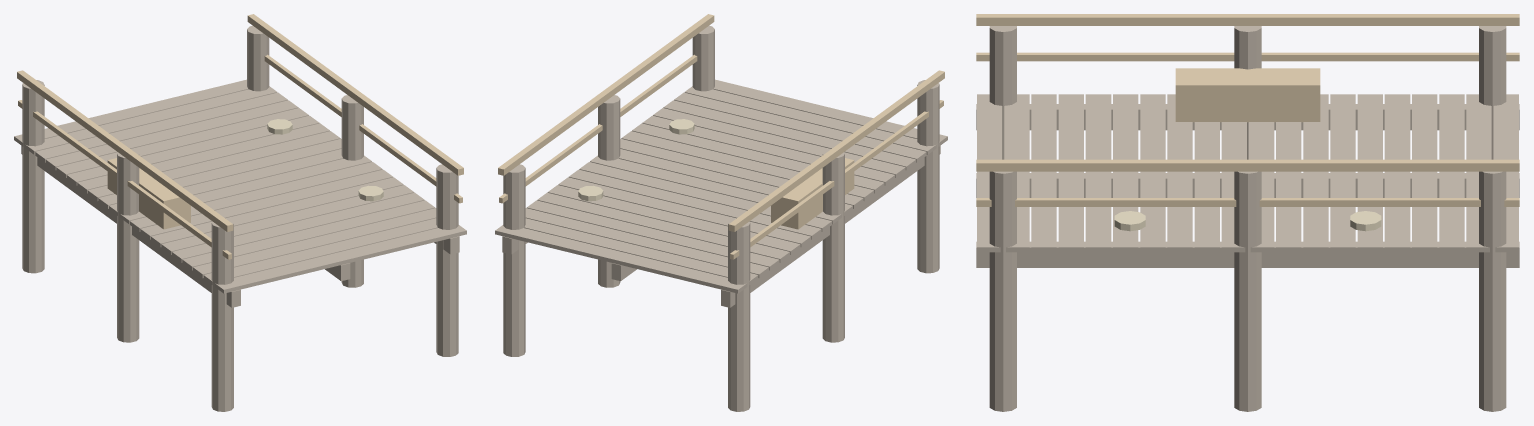
File: pier_section.glb
3 renders of one model, left to right at view 1: azimuth 30°, elevation 25°; view 2: azimuth 150°, elevation 25°; view 3: azimuth 270°, elevation 25°, orthographic. The views are drawn at different scales.
Visible parts, largest first — view 1: body; view 2: body; view 3: body.
Part boxes in pixels (x1,y1,x2,y2): body: (14, 14, 466, 411); body: (495, 14, 947, 411); body: (976, 14, 1519, 411).
Bounding box in the file's own units: 4.02 × 3 × 6.
